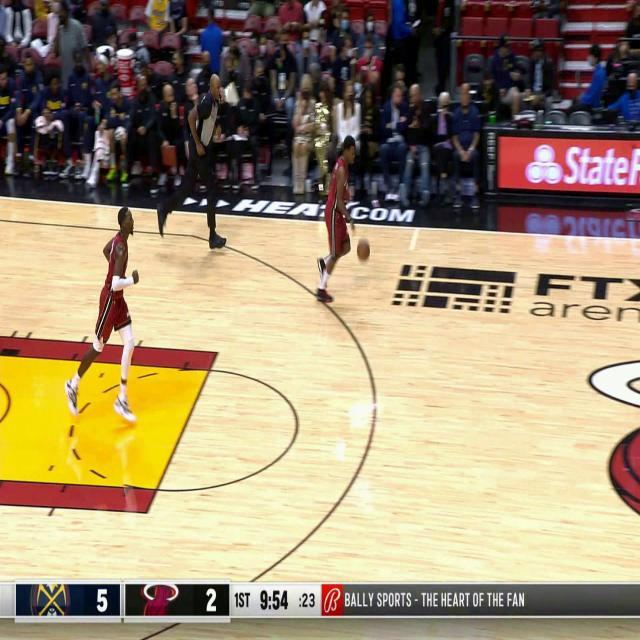rim: (358, 240, 370, 260)
